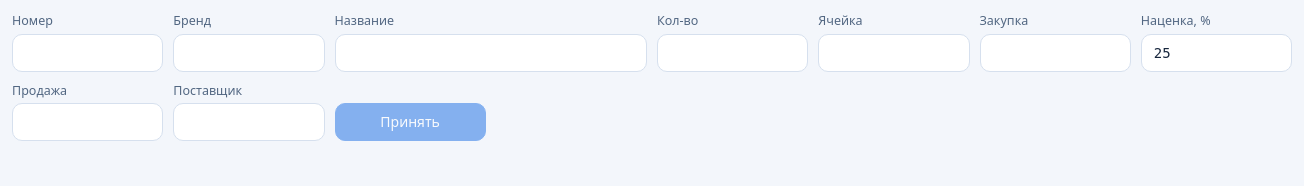
Test case: ReceiptForm › new item uses default markup
Check: the field labelled "Наценка, %" holds "25", box [1141,34,1292,72]
Type "412" into the field labelled "Закупка".
click(1055, 52); type("412")  # box [980,34,1131,72]
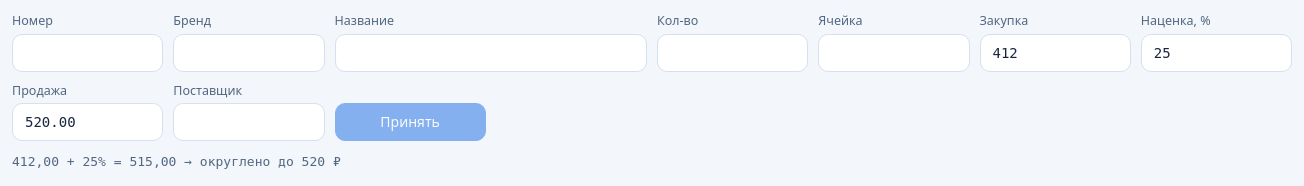
Check: the field labelled "Продажа" holds "520.00", box [12,103,163,141]
Check: the text "412,00 + 25% = 515,00 → округлено до 520 ₽" is shown, box [12,154,341,169]
